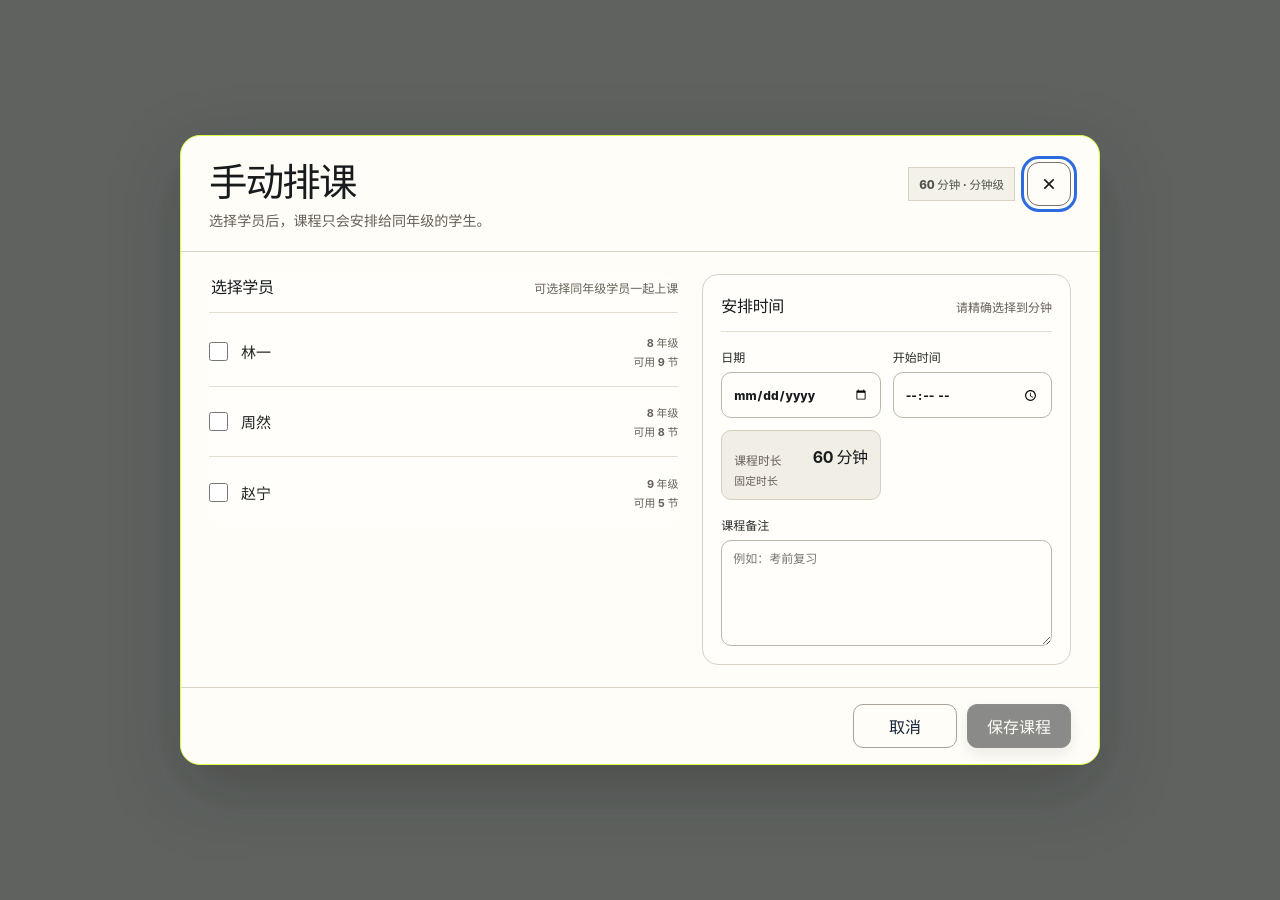
Test: ManualScheduleSheet › 选择一个学生后禁用其他年级，同时保留同年级选择
Click the checkbox with test id "student-student-a" at x=218, y=352, box [209,342,228,361]
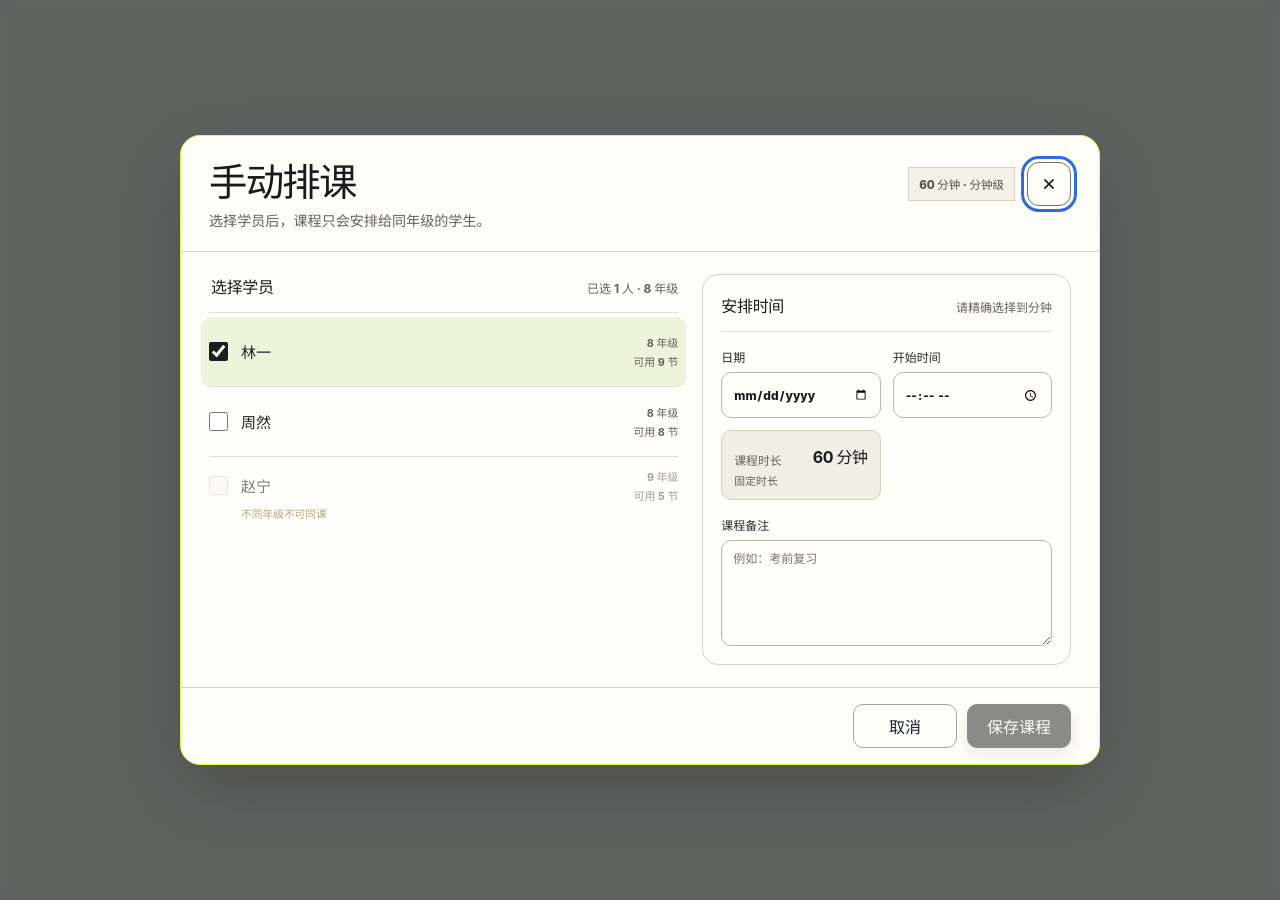
Expected: the checkbox with test id "student-student-b" is enabled, [209,412,228,431]
Now the checkbox with test id "student-student-c" is disabled, box [209,476,228,495]
